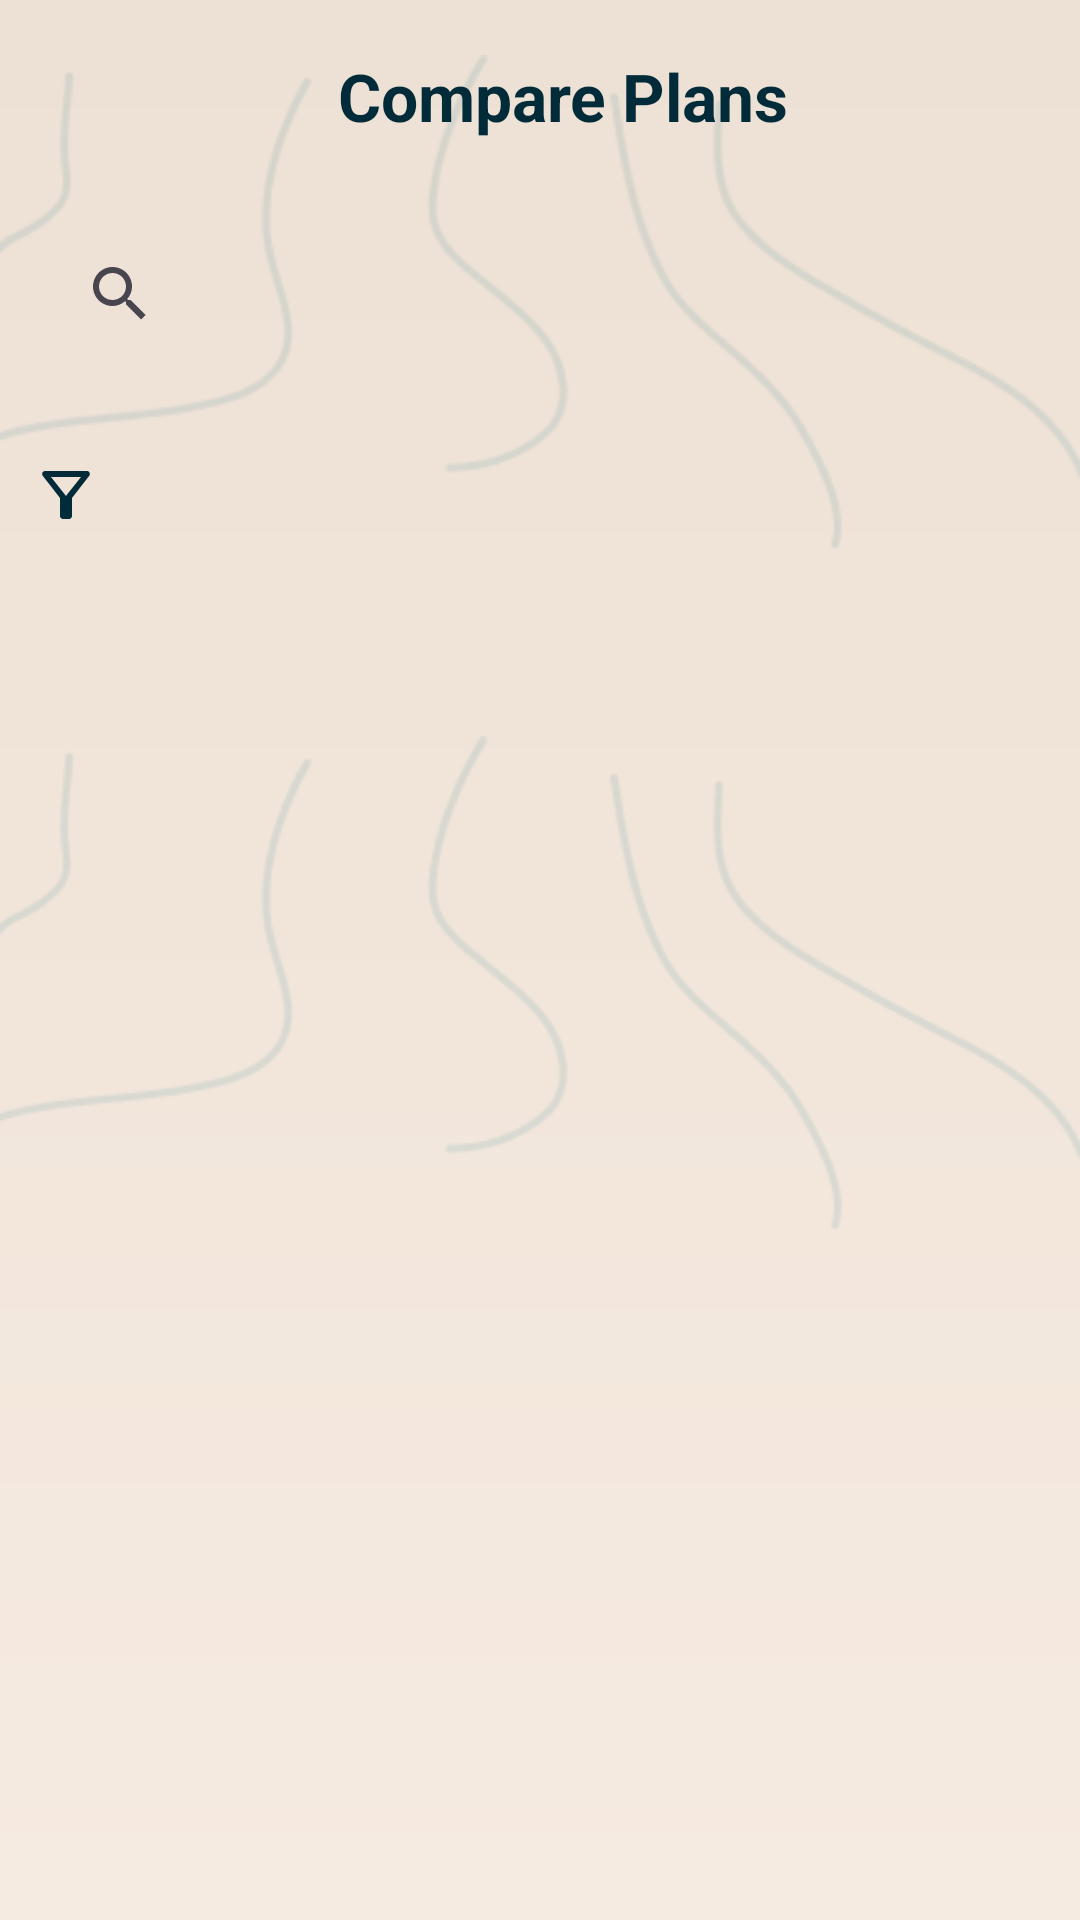

Icon bounding boxes for this 1080px x 1920px phone screenshot, format BBox(x1, y1, x2, y2):
filter: BBox(42, 471, 90, 519)
